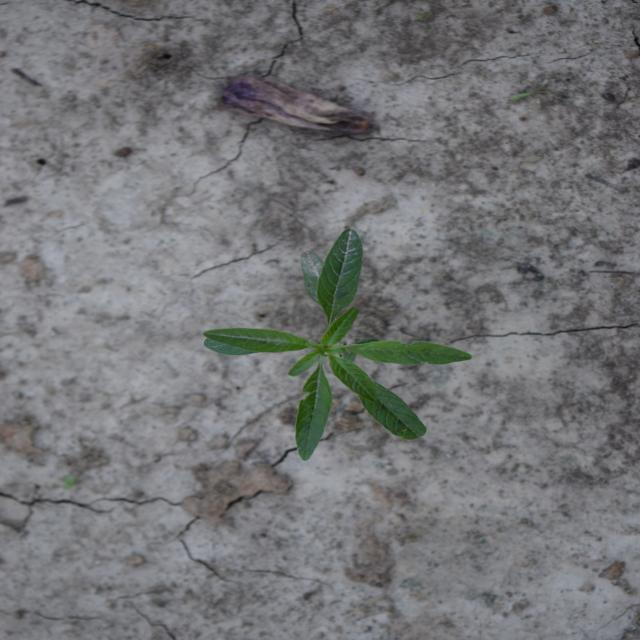Waterhemp: (200, 227, 476, 463)
